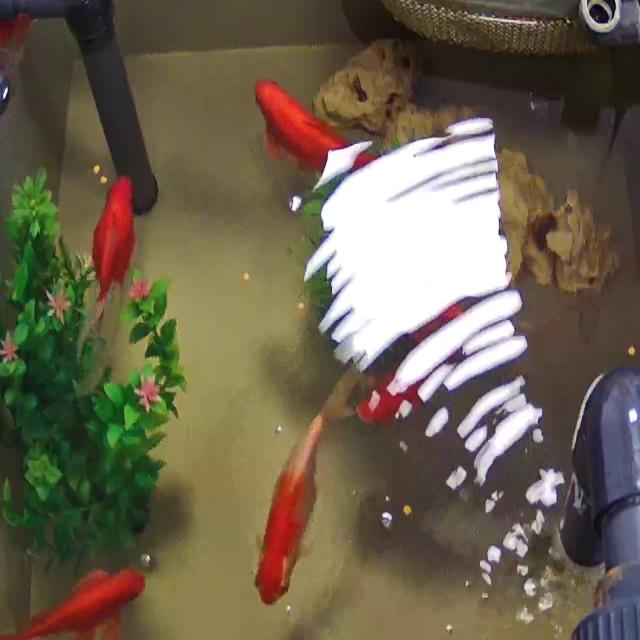fish: (246, 365, 356, 614), (242, 72, 369, 181), (77, 167, 147, 355), (0, 561, 158, 640)
